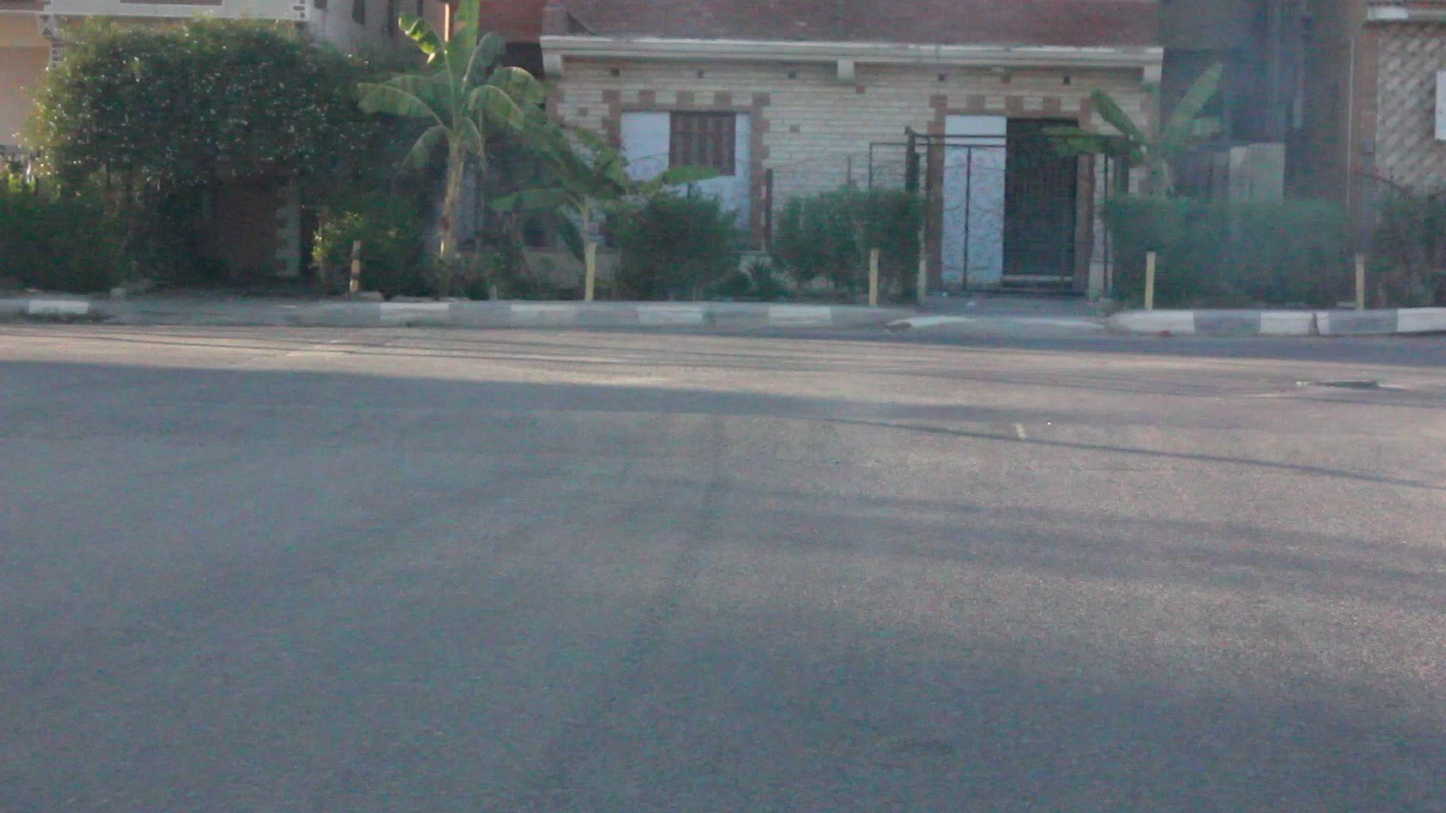Bump: (4, 341, 1446, 487)
